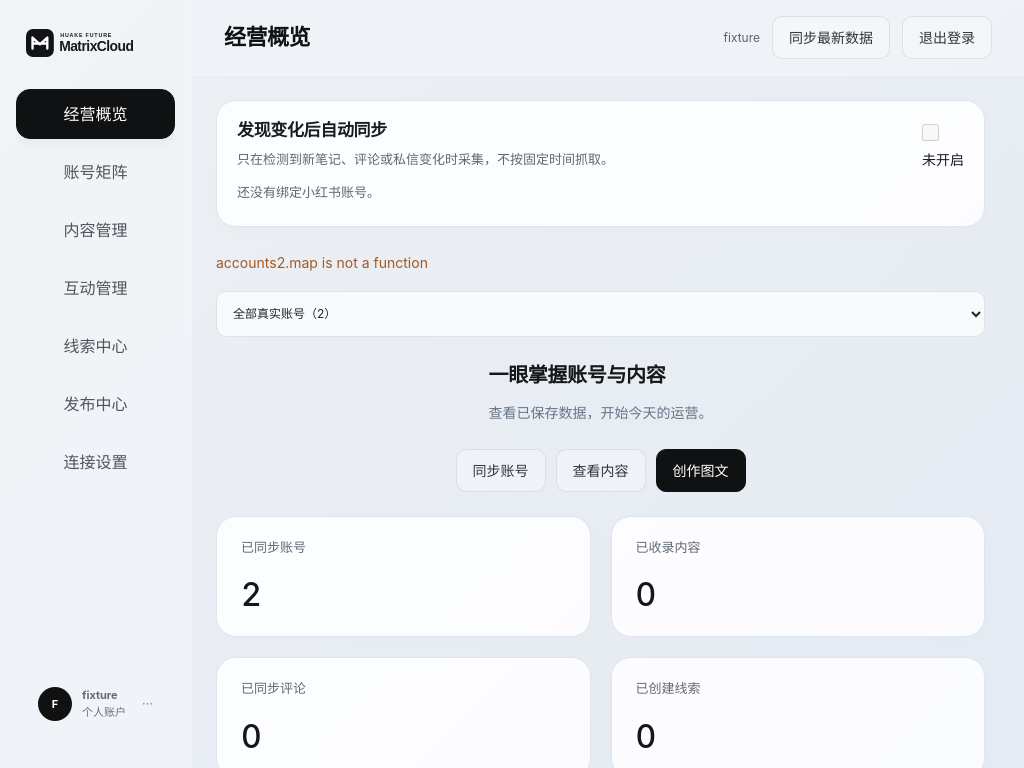
Test: private messages follow the selected social account in the interaction board
Check: the text "已同步账号" is shown, box [241, 539, 306, 555]
Click the button "互动管理".
click(96, 288)  # box [16, 263, 175, 313]
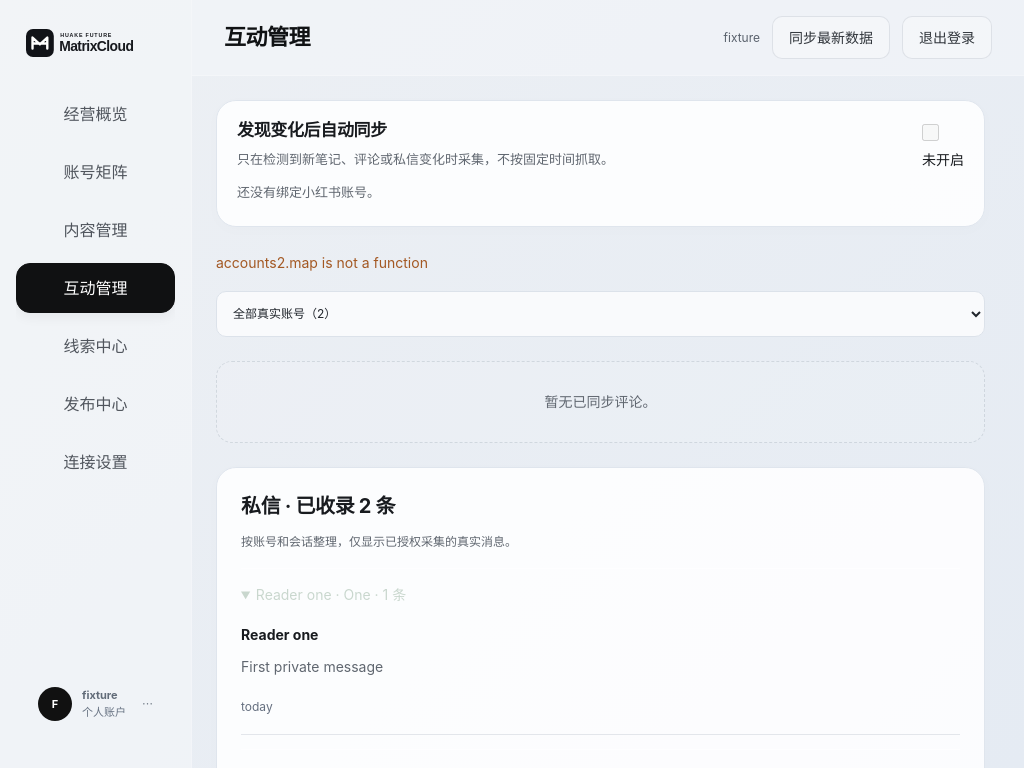
Check: the text "First private message" is shown, box [241, 658, 383, 675]
Select "Two · 2" in the dropdown named "账号范围" at (600, 314), box [216, 291, 985, 337]
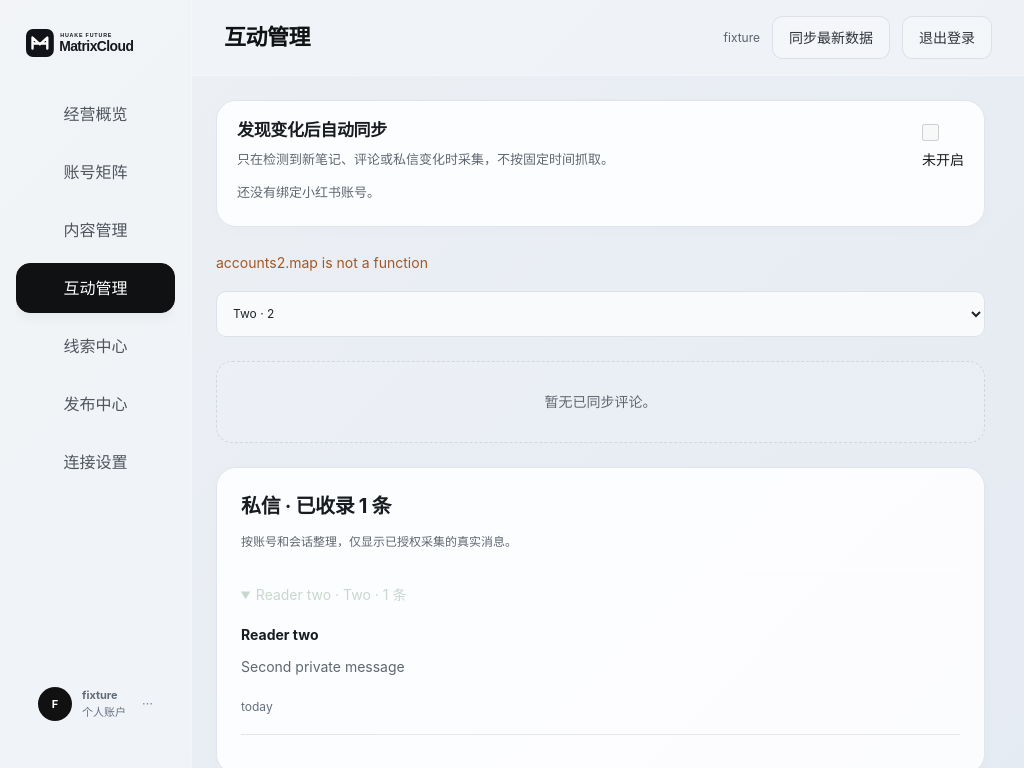
Check: the text "First private message" is gone
Check: the text "Second private message" is shown, box [241, 658, 405, 675]
